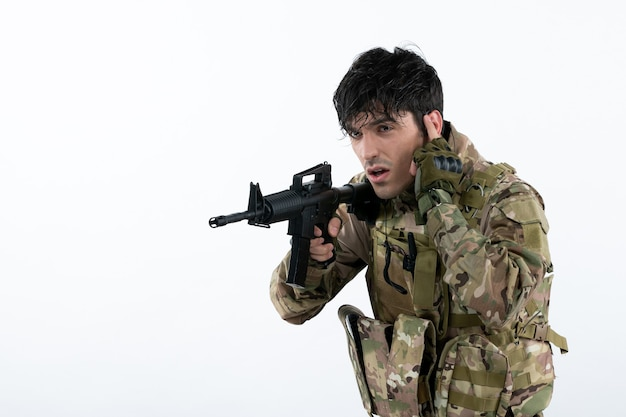gun: (205, 159, 384, 289)
